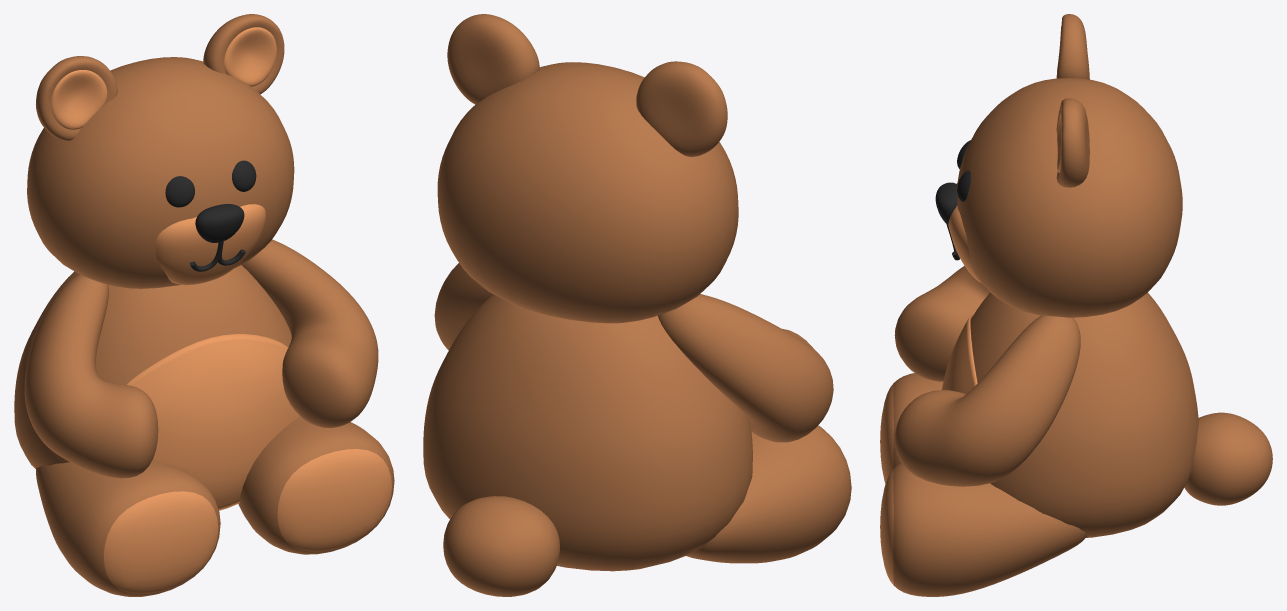
File: target.glb
The picture shows the model from 3 angles, left to right: view 1: azimuth 30°, elevation 25°; view 2: azimuth 150°, elevation 25°; view 3: azimuth 270°, elevation 25°; orthographic projection. The views are drawn at different scales.
Parts seen in each view (by area): view 1: Cube, Cube.003, Cube.002, Cube.005, Cube.001, Cube.009, Cube.008, Cube.006, Cube.007, Sphere; view 2: Cube.001, Cube, Cube.002, Cube.003, Cube.008, Cube.004; view 3: Cube, Cube.001, Cube.002, Cube.003, Cube.004, Cube.008, Cube.005, Cube.006, Cube.007.
Boxes of the visible parts, box(x1,y1,x2,y2) form: Cube: box(27, 57, 294, 288); Cube.003: box(36, 416, 394, 596); Cube.002: box(24, 239, 378, 478); Cube.005: box(126, 334, 300, 510); Cube.001: box(14, 265, 291, 468); Cube.009: box(51, 27, 276, 129); Cube.008: box(36, 14, 284, 140); Cube.006: box(155, 204, 265, 285); Cube.007: box(195, 204, 244, 242); Sphere: box(165, 160, 256, 207); Cube.001: box(423, 294, 752, 571); Cube: box(437, 62, 738, 323); Cube.002: box(434, 263, 833, 442); Cube.003: box(686, 425, 851, 563); Cube.008: box(447, 14, 727, 156); Cube.004: box(443, 496, 559, 596); Cube: box(956, 78, 1182, 317); Cube.001: box(970, 292, 1198, 537); Cube.002: box(894, 266, 1080, 486); Cube.003: box(880, 373, 1086, 596); Cube.004: box(1184, 412, 1272, 505); Cube.008: box(1056, 14, 1089, 187); Cube.005: box(942, 314, 977, 393); Cube.006: box(948, 183, 980, 282); Cube.007: box(935, 182, 957, 224).
Size of the model in its own units: 0.9897 by 1.36 by 1.
